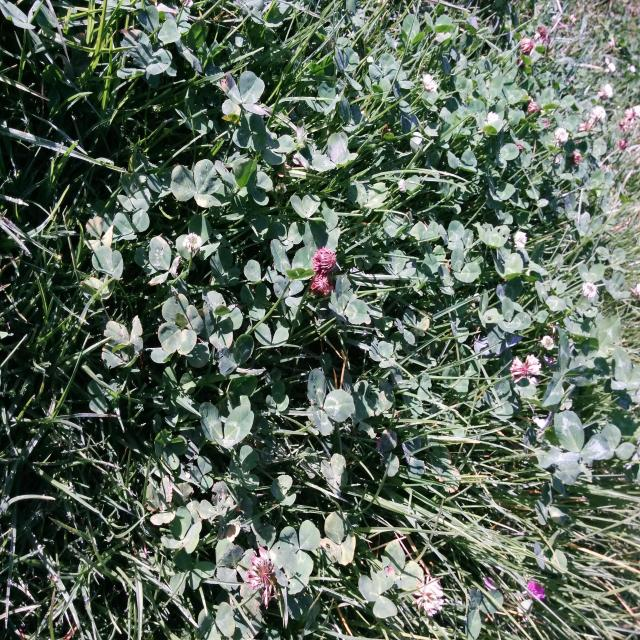Four Leaf Clover: (320, 453, 348, 497)
